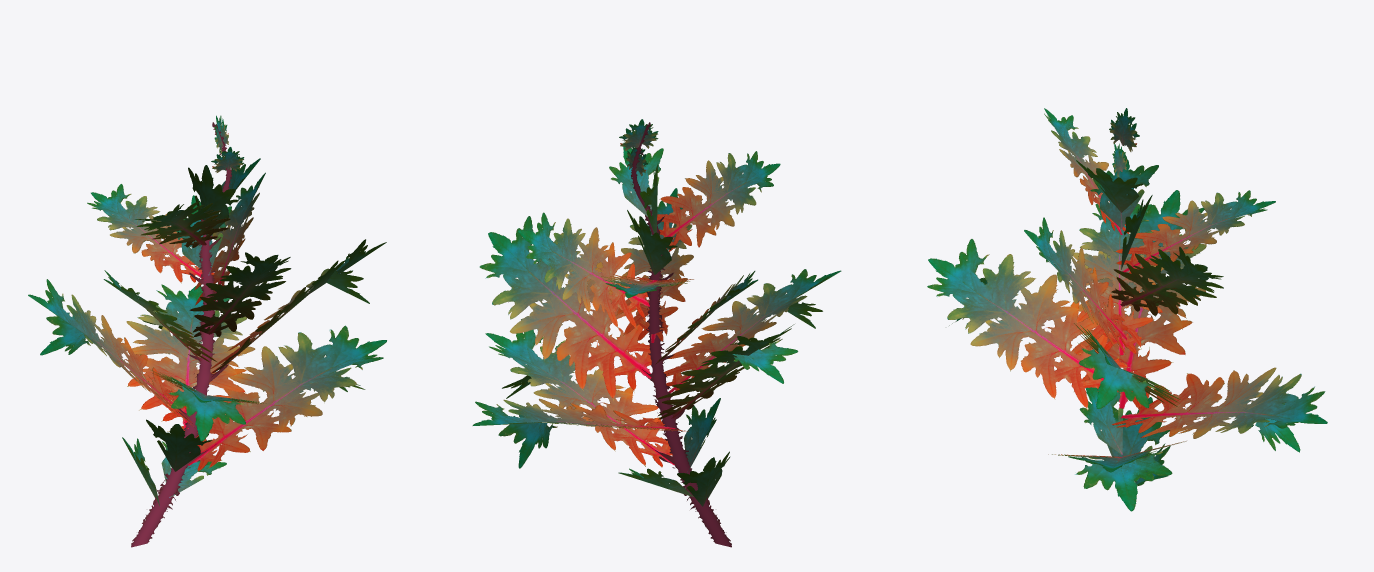
Rendered from Foil Leaf 4.fbx.
3 renders of one model, left to right at view 1: azimuth 30°, elevation 25°; view 2: azimuth 150°, elevation 25°; view 3: azimuth 270°, elevation 25°, orthographic. The views are drawn at different scales.
Visible parts, largest first — view 1: Foil Leaf 4; view 2: Foil Leaf 4; view 3: Foil Leaf 4.
Part boxes in pixels (x1=…): Foil Leaf 4: x1=28, y1=115, x2=386, y2=547; Foil Leaf 4: x1=472, y1=119, x2=841, y2=547; Foil Leaf 4: x1=927, y1=108, x2=1327, y2=511.
Bounding box in the file's own units: 141 × 195 × 152.
